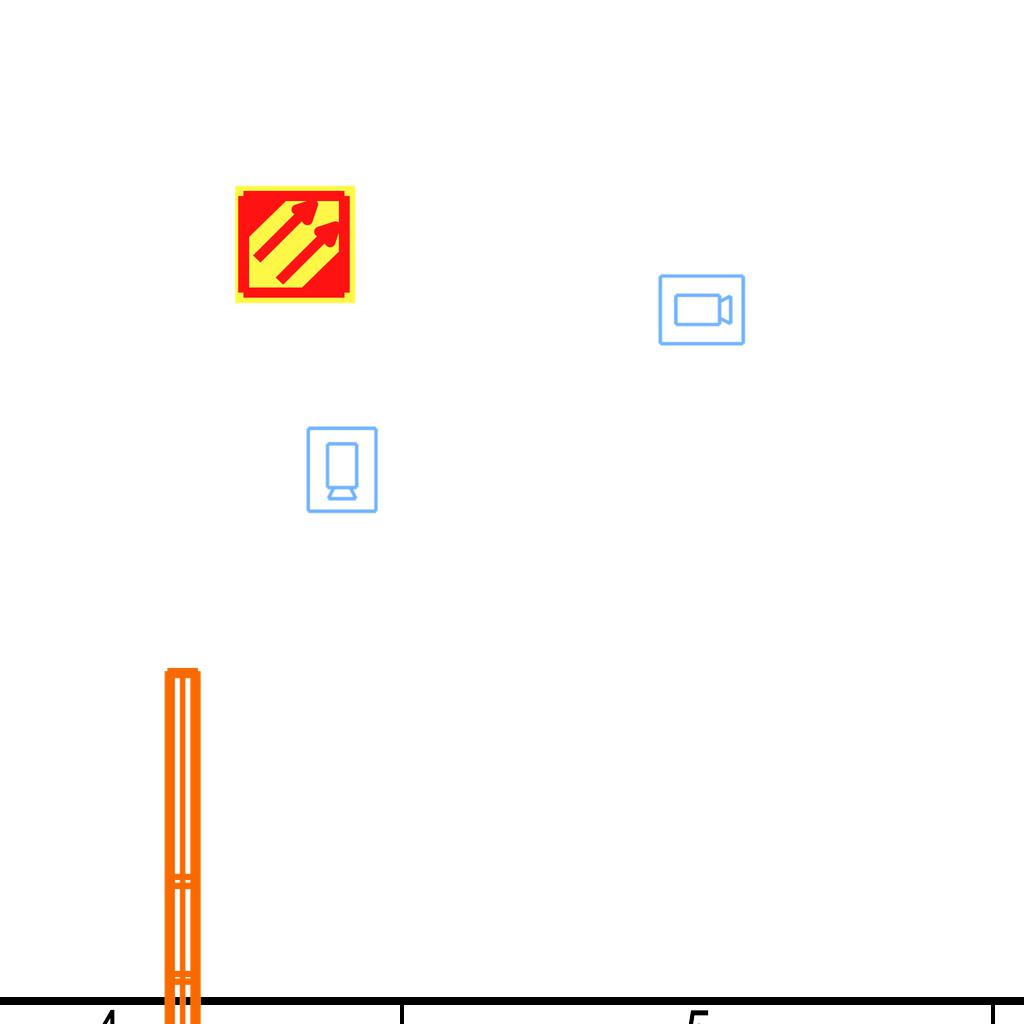ASR_Ansaugrauchmelder: (233, 182, 358, 307)
Ambulanz_Pendelleuchte_LED: (152, 657, 264, 1024)
KFO_Kamera_mit_Festobjektiv: (303, 424, 380, 515), (656, 272, 747, 349)
